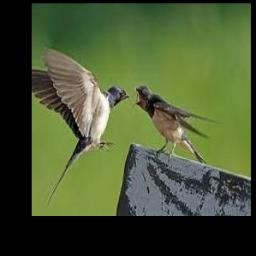Swallow: (32, 47, 129, 205), (133, 85, 220, 164)
